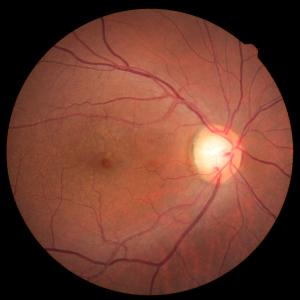retina_disease: (64, 103, 274, 215)
